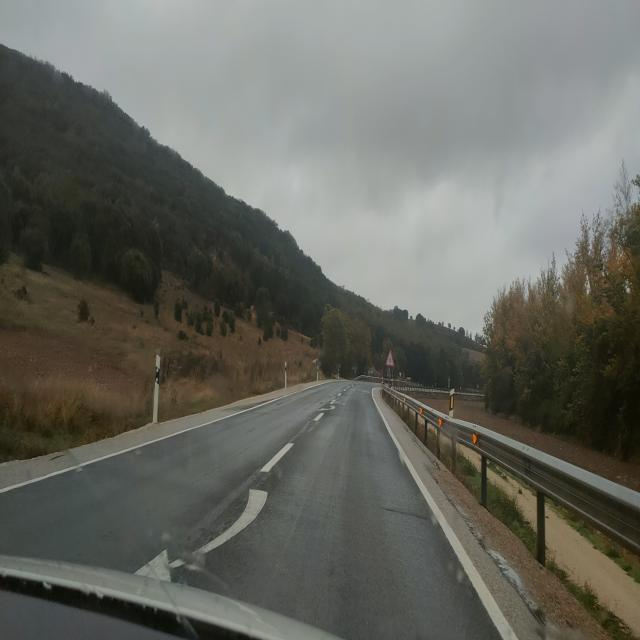Poth-hole: (372, 496, 430, 526)
